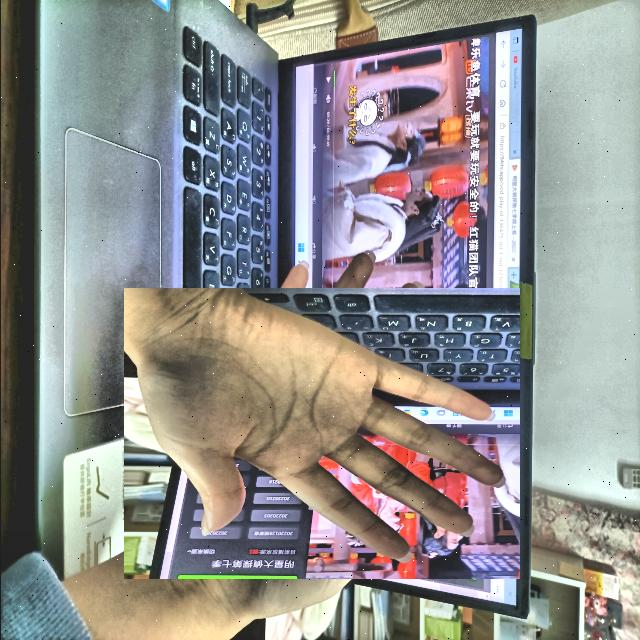not-gloved: (149, 262, 493, 606)
